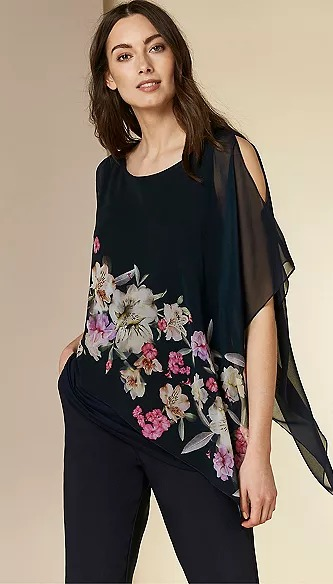C_short blouse: (73, 126, 333, 503)
